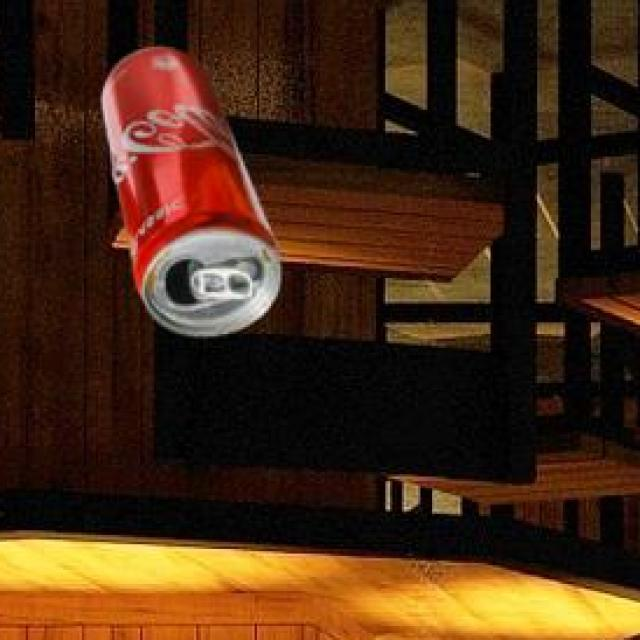logam: (99, 50, 277, 340)
